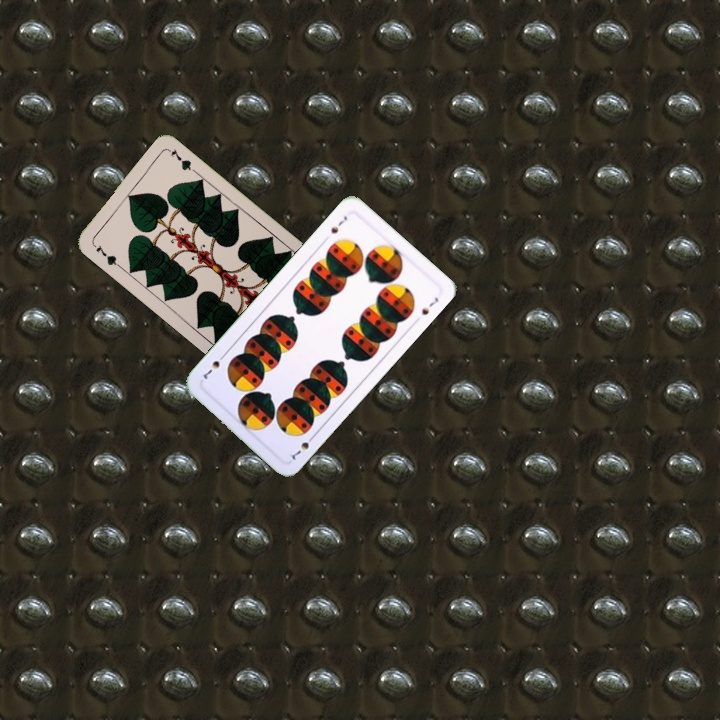G7: (88, 240, 123, 270)
S7: (287, 431, 318, 463), (327, 212, 350, 236)
